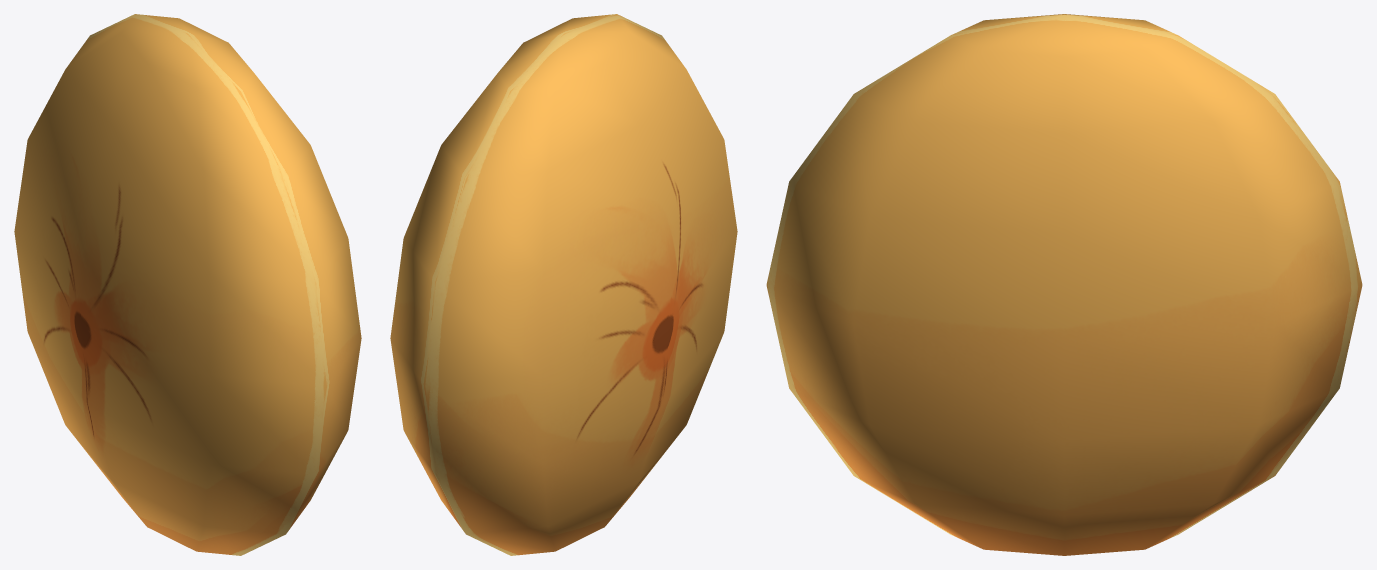
The model's file is pillowcircle.fbx.
3 views of the same model, side by side, from view 1: azimuth 30°, elevation 25°; view 2: azimuth 150°, elevation 25°; view 3: azimuth 270°, elevation 25° (orthographic). The views are drawn at different scales.
Visible parts, largest first — view 1: Sphere; view 2: Sphere; view 3: Sphere.
Boxes of the visible parts, box(x1,y1,x2,y2) form: Sphere: box(14, 14, 361, 555); Sphere: box(390, 14, 737, 555); Sphere: box(766, 14, 1362, 555).
Size of the model in its own units: 89.01 by 200 by 200.
